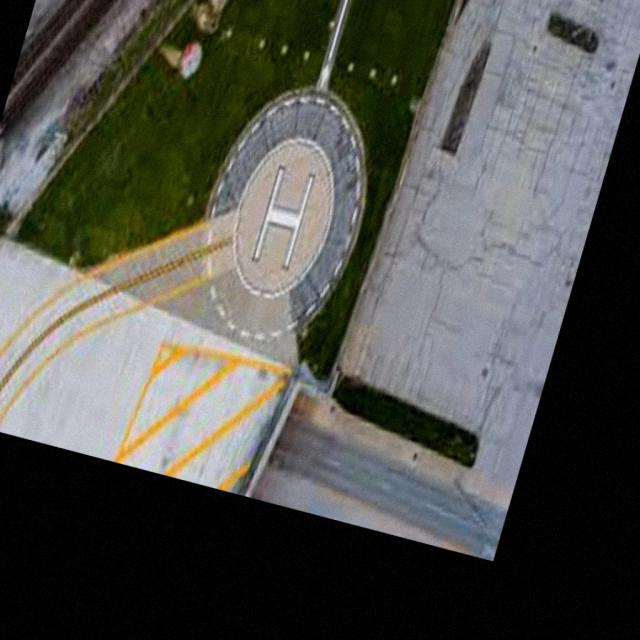helipad: (228, 134, 338, 302)
